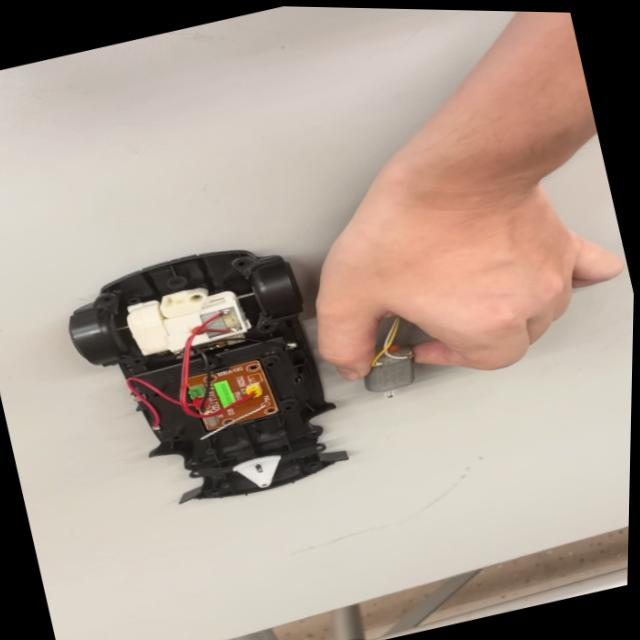Chassis: (69, 223, 361, 529)
motor: (350, 334, 427, 410)
